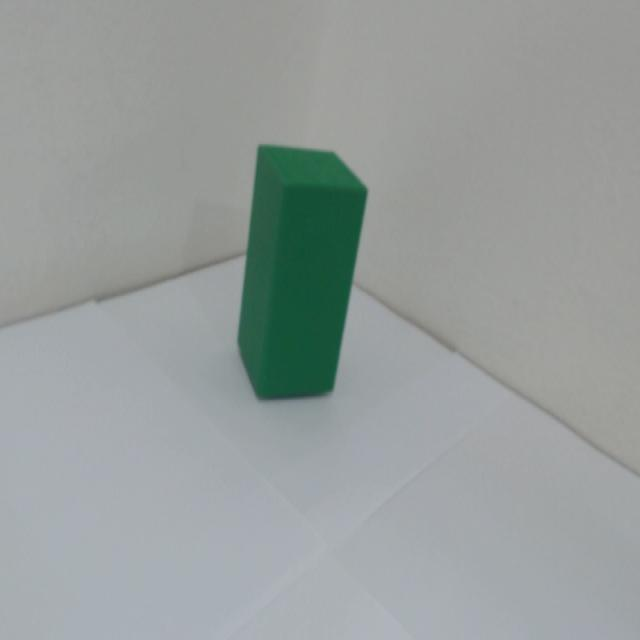cube: (204, 128, 415, 475)
